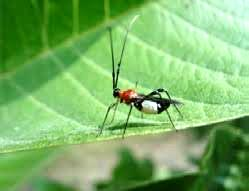Helopeltis-insect: (108, 82, 179, 116)
